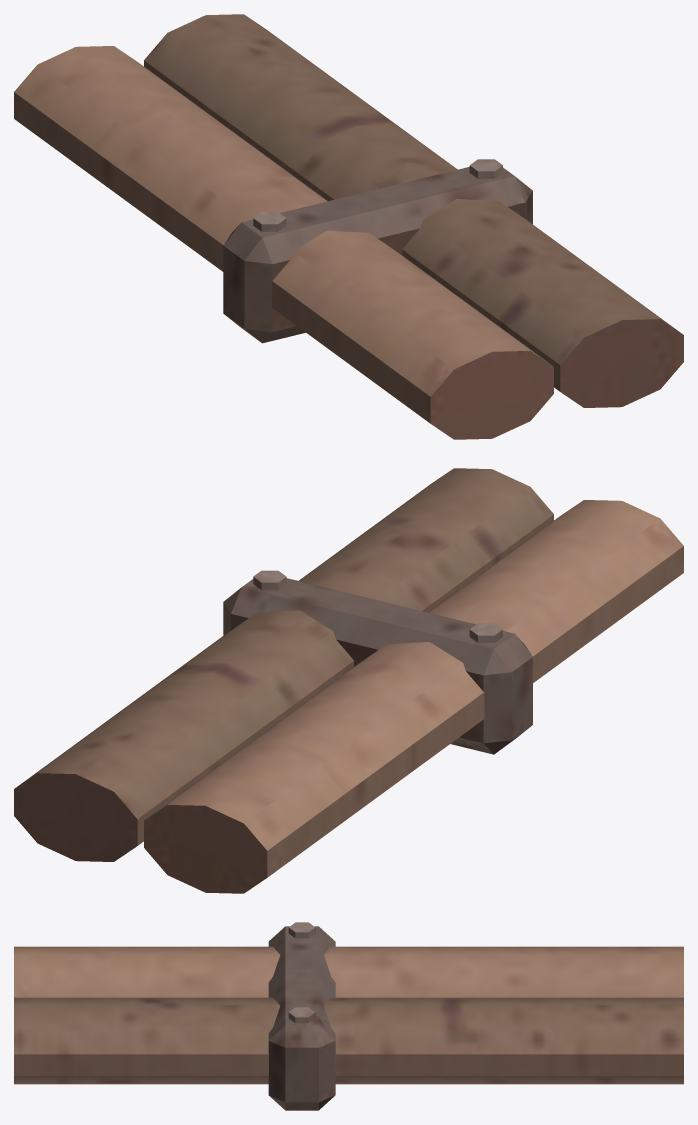
The model's file is heat-pipe.glb.
3 views of the same model, one above another, from view 1: azimuth 30°, elevation 25°; view 2: azimuth 150°, elevation 25°; view 3: azimuth 270°, elevation 25° (orthographic). The views are drawn at different scales.
Parts seen in each view (by area): view 1: body; view 2: body; view 3: body.
Boxes of the visible parts, x1,y1,x2,y2 form: body: [14, 14, 683, 439]; body: [14, 468, 683, 893]; body: [14, 922, 683, 1110].
Size of the model in its own units: 0.4 by 0.15 by 1.
Materials: 1 (1 with a texture image).
